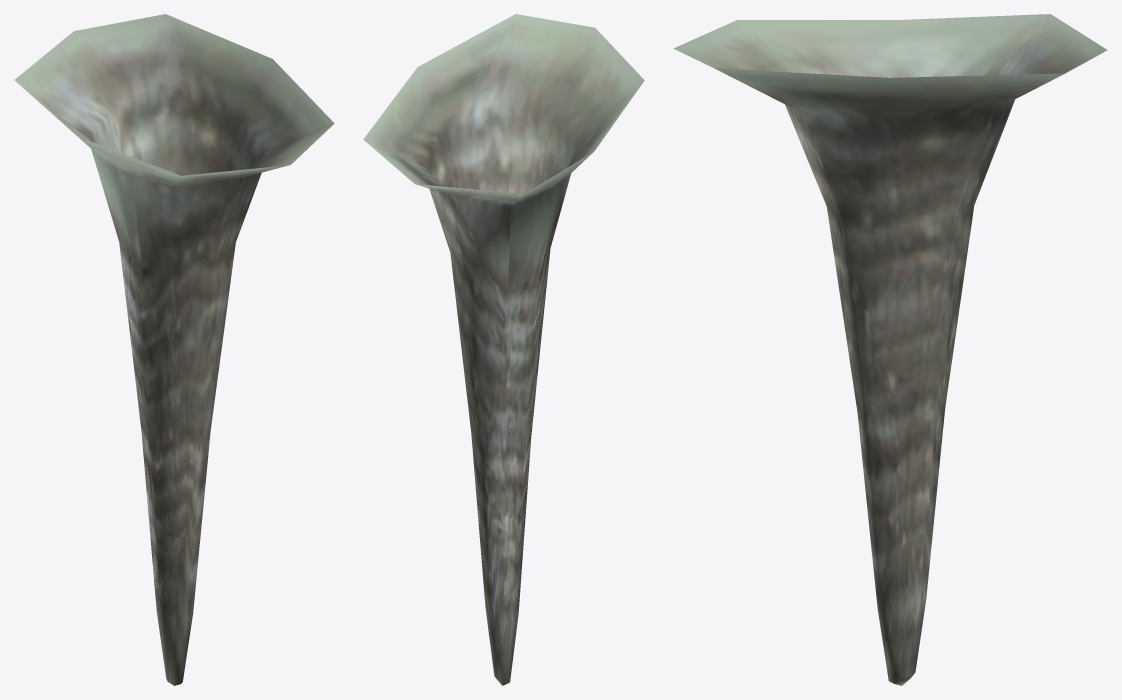
The model's file is TROLLHOLE02_PS-MAINSTALAG23.fbx.
3 renders of one model, left to right at view 1: azimuth 30°, elevation 25°; view 2: azimuth 150°, elevation 25°; view 3: azimuth 270°, elevation 25°, orthographic. The views are drawn at different scales.
Parts seen in each view (by area): view 1: TROLLHOLE02_PS-MAINSTALAG23; view 2: TROLLHOLE02_PS-MAINSTALAG23; view 3: TROLLHOLE02_PS-MAINSTALAG23.
Boxes of the visible parts, <box> form: TROLLHOLE02_PS-MAINSTALAG23: <box>14,14,334,685</box>; TROLLHOLE02_PS-MAINSTALAG23: <box>363,14,644,685</box>; TROLLHOLE02_PS-MAINSTALAG23: <box>673,14,1107,685</box>.
Size of the model in its own units: 9705 by 30257 by 18146.
Materials: 1 (1 with a texture image).
